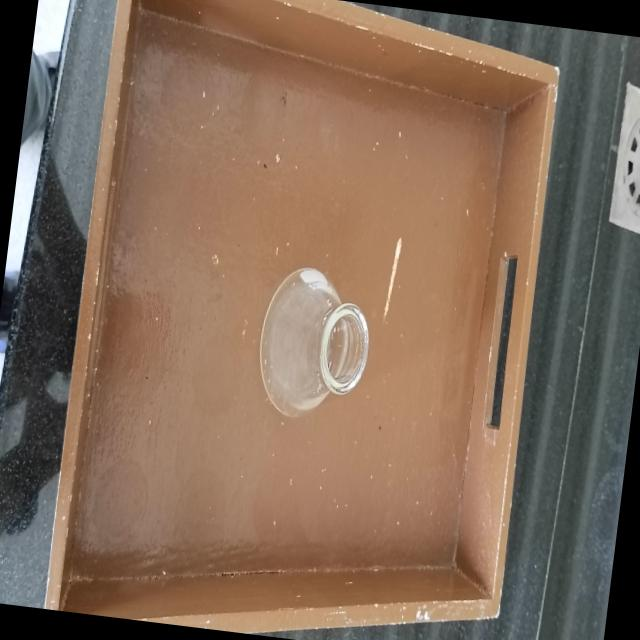erlenmeyer_flask: (246, 242, 380, 437)
